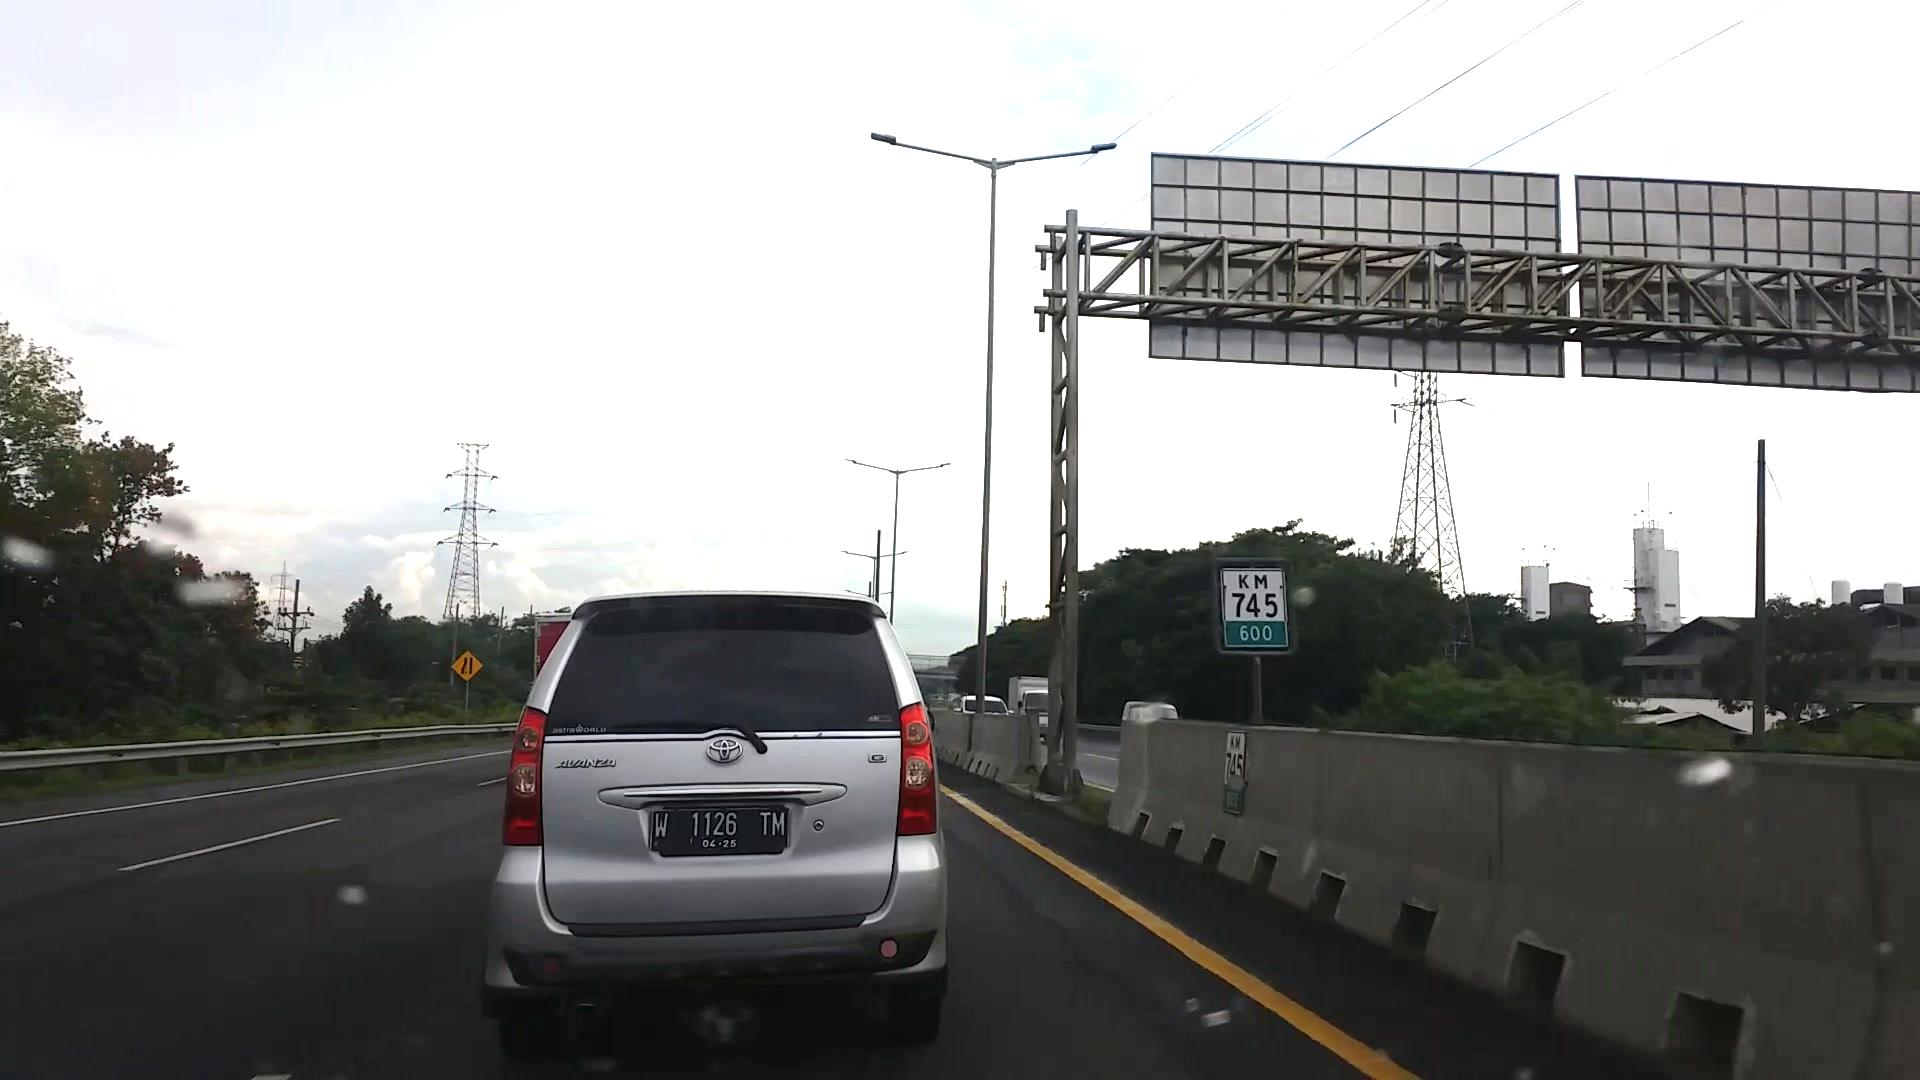plate_positive: (649, 808, 789, 856)
